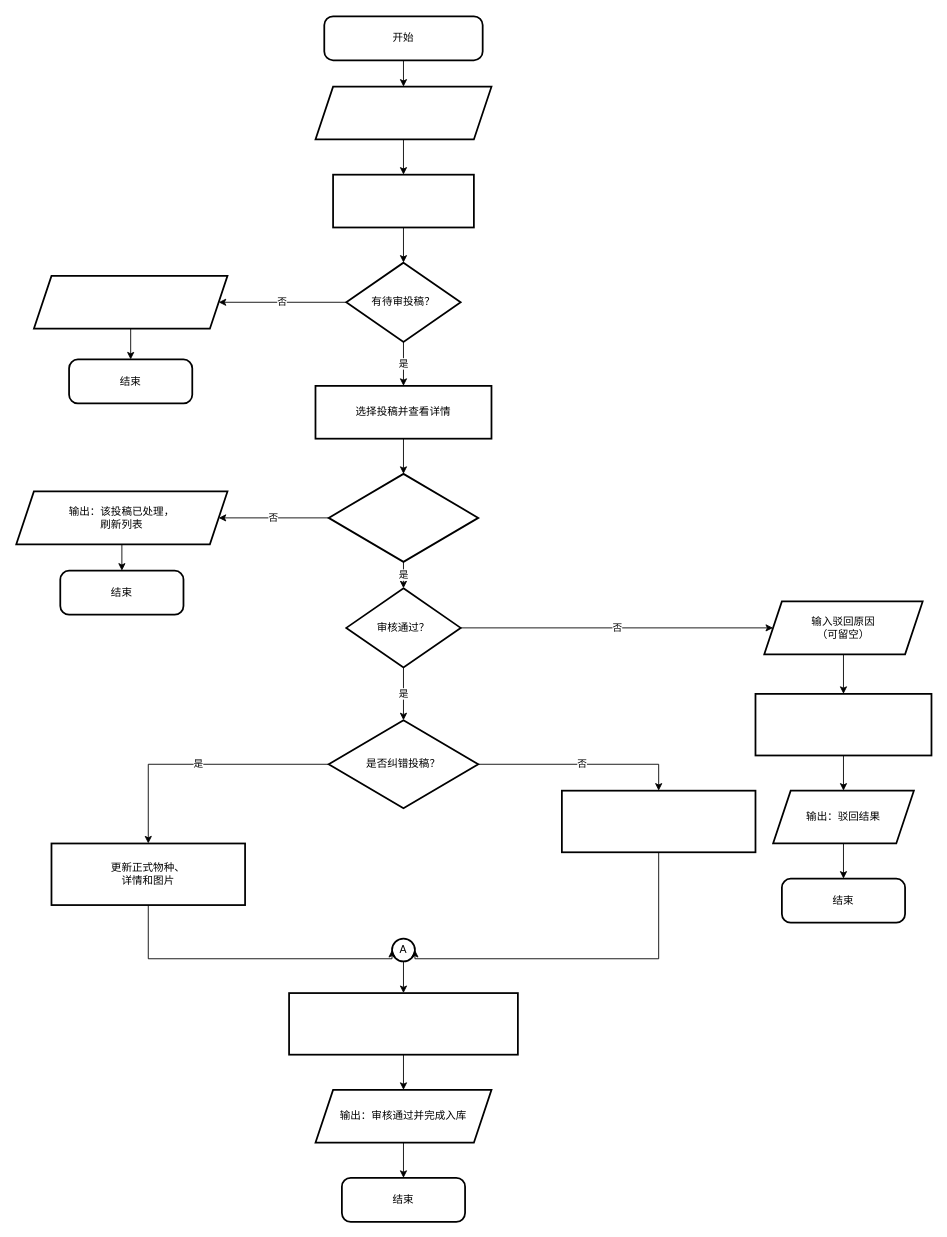
Some shapes in this 947 by 1237 pixel diagram are drawn without their labels. The shapes that lost their labels are listed below. From the top down, each one's centre as x and y in pixels, then its label:
At point (403, 112): "编辑进入审核页".
At point (403, 200): "加载待审投稿列表".
At point (130, 302): "输出：暂无待审投稿".
At point (403, 517): "状态仍为 pending？".
At point (843, 724): "更新状态为 rejected 记录审核人和时间".
At point (658, 821): "新建正式物种、 详情和图片".
At point (403, 1023): "更新投稿状态为 approved 记录审核人和时间".
